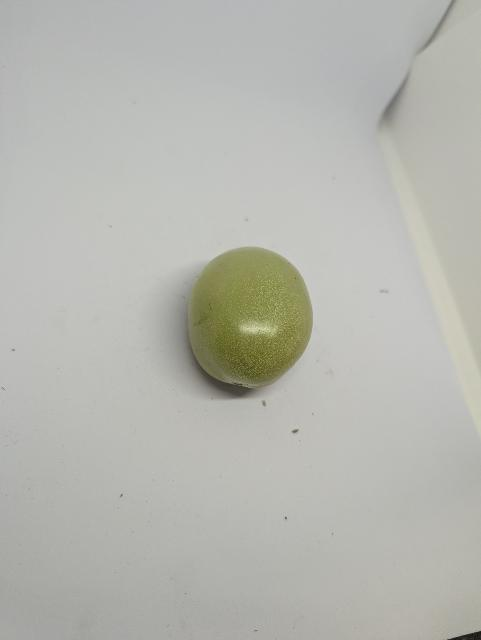green: (187, 244, 316, 391)
